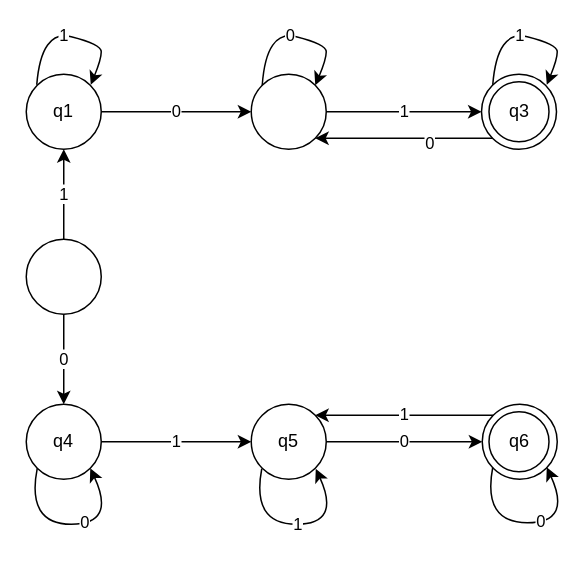
Some shapes in this 585 by 561 pixel diagram are drawn without their labels. The box of each missing label's shape, as (x1, y1, x2, y2) in pixels:
q0: (25, 238, 101, 314)
q2: (250, 73, 326, 149)
